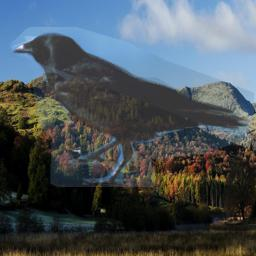Crow: (10, 27, 254, 187)
